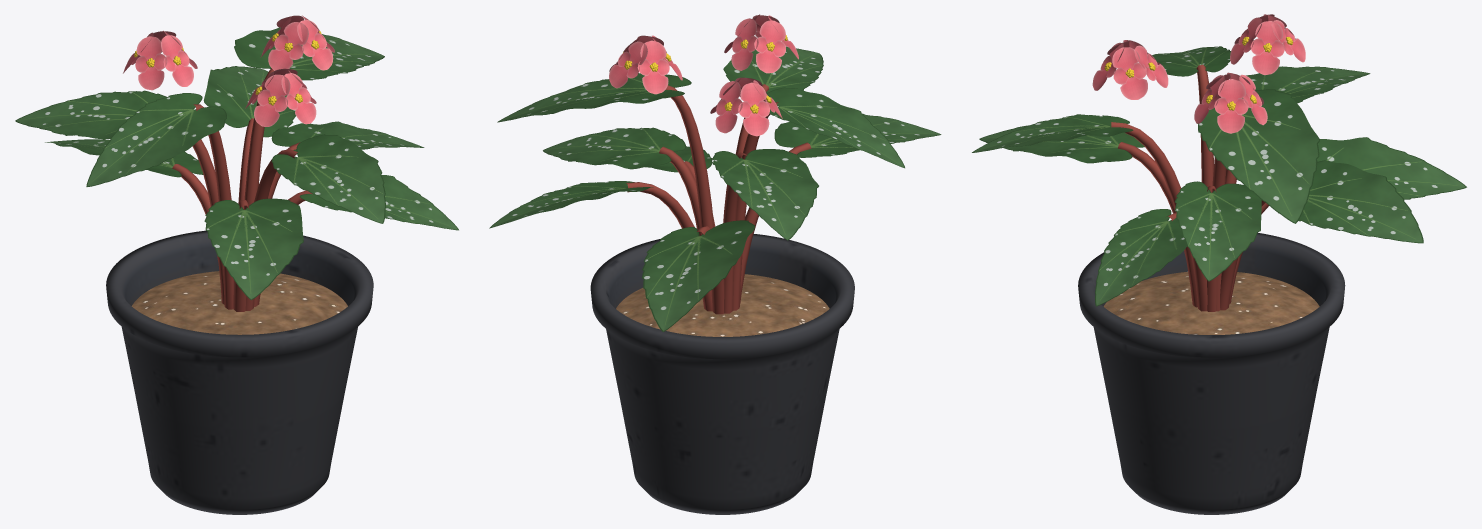
The model's file is begonia.glb.
The picture shows the model from 3 angles, left to right: view 1: azimuth 30°, elevation 25°; view 2: azimuth 150°, elevation 25°; view 3: azimuth 270°, elevation 25°; orthographic projection.
Parts seen in each view (by area): view 1: piece-0, piece-1, piece-9, piece-6, piece-4, piece-11, piece-3, piece-10, piece-5, piece-7, piece-2, piece-8 (+6 smaller); view 2: piece-0, piece-8, piece-11, piece-1, piece-3, piece-6, piece-2, piece-10, piece-9, piece-4, piece-5, piece-36 (+5 smaller); view 3: piece-0, piece-10, piece-1, piece-5, piece-2, piece-11, piece-7, piece-8, piece-4, piece-9, piece-3, piece-6 (+8 smaller).
Part boxes in pixels (box(x1,y1,x2,y2)): piece-0: box(106, 230, 373, 514); piece-1: box(131, 271, 347, 334); piece-9: box(204, 198, 303, 300); piece-6: box(86, 93, 226, 186); piece-4: box(271, 134, 385, 223); piece-11: box(172, 68, 312, 311); piece-3: box(15, 90, 167, 139); piece-10: box(234, 27, 384, 80); piece-5: box(203, 66, 295, 137); piece-7: box(299, 175, 458, 230); piece-2: box(271, 121, 424, 153); piece-8: box(45, 139, 203, 177); piece-0: box(590, 234, 854, 514); piece-8: box(642, 220, 754, 331); piece-11: box(626, 84, 811, 314); piece-1: box(616, 274, 829, 336); piece-3: box(712, 149, 818, 240); piece-6: box(767, 87, 904, 168); piece-2: box(543, 127, 686, 169); piece-10: box(497, 73, 691, 122); piece-9: box(774, 113, 941, 157); piece-4: box(723, 46, 823, 92); piece-5: box(489, 181, 653, 228); piece-36: box(754, 20, 785, 73); piece-0: box(1078, 233, 1345, 514); piece-10: box(1197, 89, 1319, 223); piece-1: box(1103, 271, 1319, 334); piece-5: box(1278, 160, 1423, 243); piece-2: box(1175, 181, 1261, 281); piece-11: box(1111, 64, 1268, 311); piece-7: box(1095, 209, 1186, 306); piece-8: box(1317, 137, 1466, 199); piece-4: box(972, 114, 1133, 152); piece-9: box(979, 125, 1144, 163); piece-3: box(1246, 66, 1370, 103); piece-6: box(1151, 46, 1230, 76).
Bounding box in the file's own units: 0.2526 × 0.2964 × 0.305.
6 materials, 4 textured.
